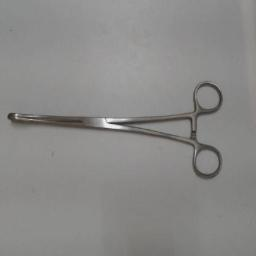Sponge Forceps: (4, 76, 228, 184)
